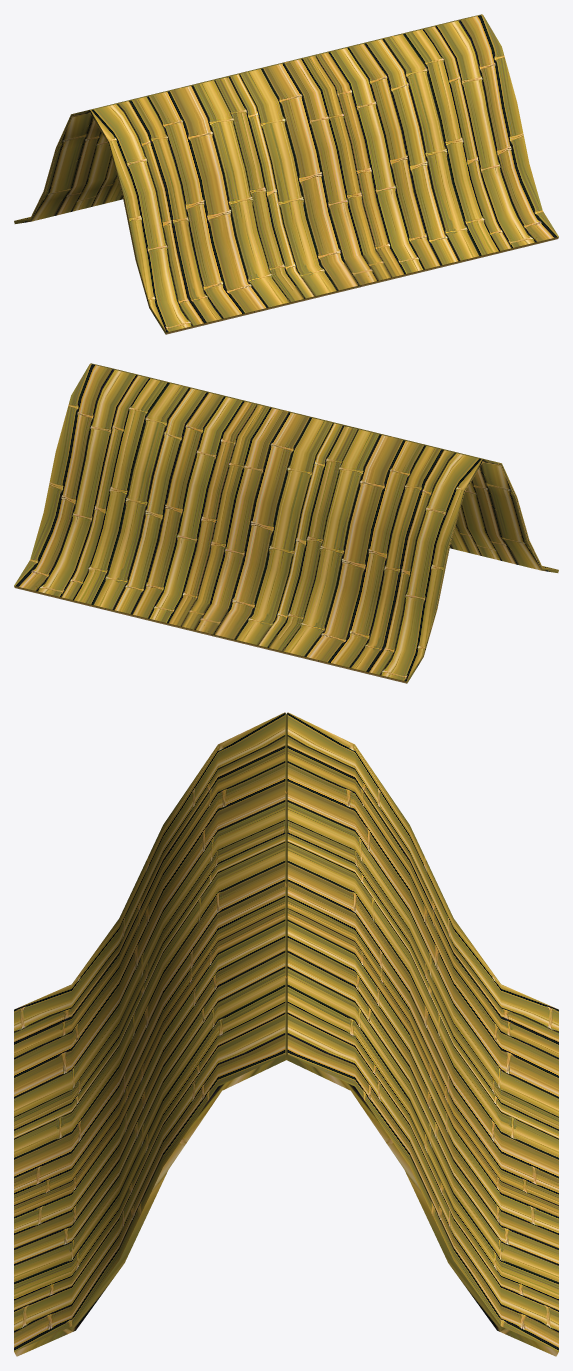
File: WoodHouse.FBX
3 renders of one model, top to bottom at view 1: azimuth 30°, elevation 25°; view 2: azimuth 150°, elevation 25°; view 3: azimuth 270°, elevation 25°, orthographic. The views are drawn at different scales.
Visible parts, largest first — view 1: Plane001, Plane002; view 2: Plane002, Plane001; view 3: Plane001, Plane002.
Boxes of the visible parts, box(x1,y1,x2,y2) form: Plane001: box(90, 15, 558, 334); Plane002: box(14, 14, 482, 223); Plane002: box(14, 364, 482, 683); Plane001: box(90, 363, 558, 572); Plane001: box(14, 712, 287, 1356); Plane002: box(285, 712, 558, 1356).
Bounding box in the file's own units: 131 × 54.07 × 88.29.
Materials: 1 (1 with a texture image).
